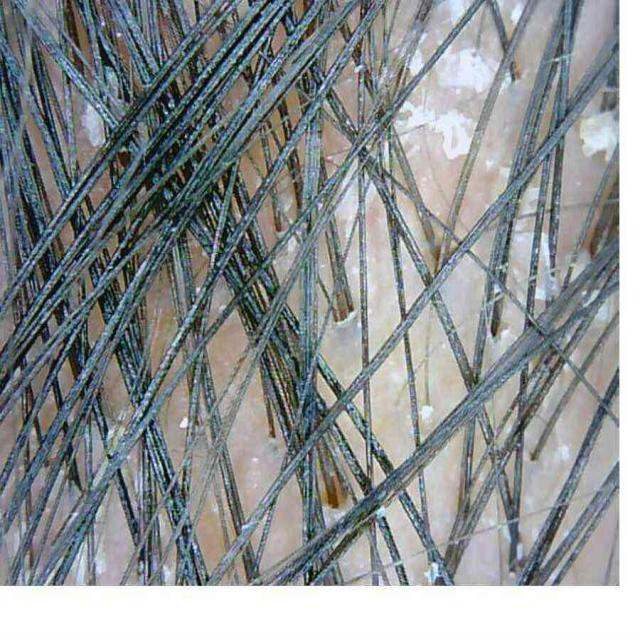d: (395, 99, 478, 161), (506, 185, 539, 300), (433, 44, 500, 96), (579, 100, 621, 169), (535, 232, 559, 300), (334, 176, 358, 240), (78, 102, 107, 150), (409, 33, 428, 75), (595, 292, 619, 324), (570, 248, 591, 281), (554, 443, 571, 466), (421, 405, 435, 430), (510, 2, 524, 25), (485, 159, 495, 172), (179, 417, 189, 428)
